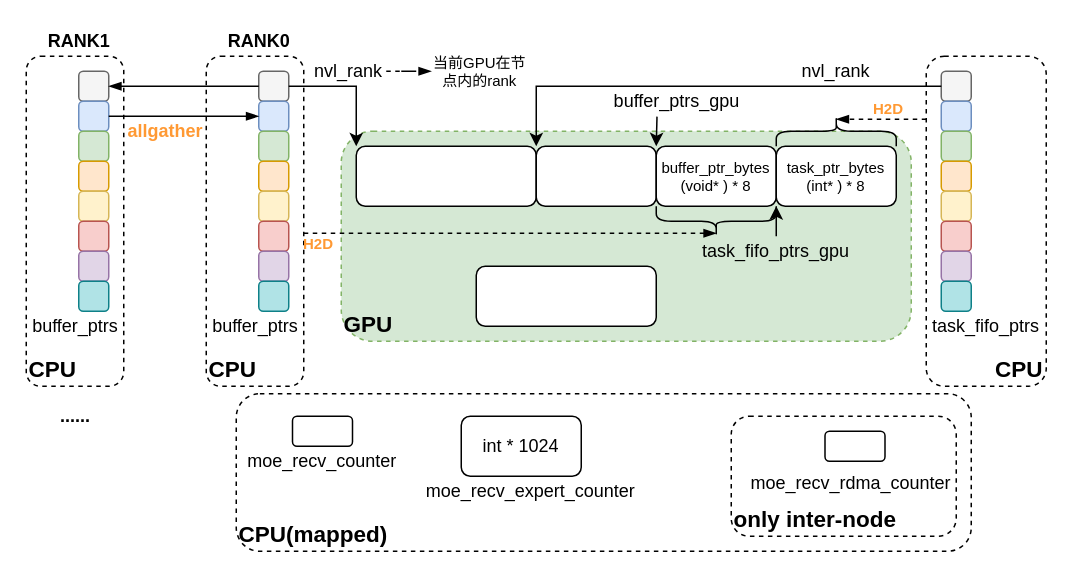
Image size: 1073x578. Some labels were removed from this diagram. The shapes that lost their labels are listed below. From the top down, each one's box as (x1, y1, x2, y2) in pixels, then its label:
(355, 145, 536, 206): num_NVL_bytes ( buffer size )
(535, 145, 656, 206): fifo_bytes int * 32768
(475, 265, 656, 326): workspace 32 * 1024 * 1024
(291, 415, 352, 446): int64_t
(824, 430, 885, 461): int
